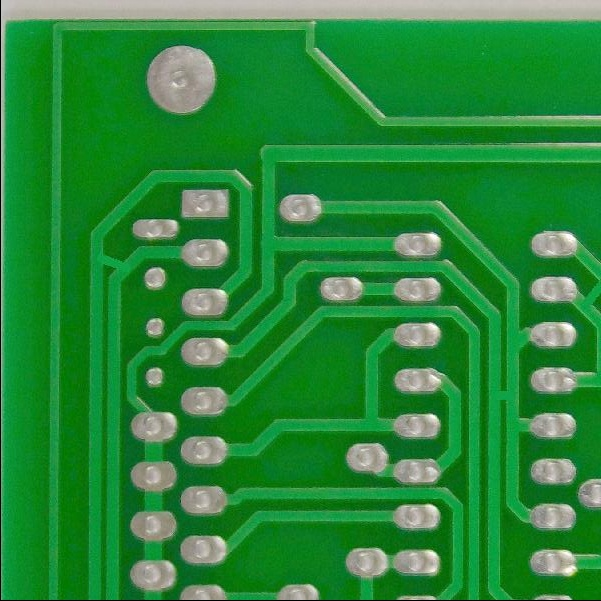short: (86, 241, 138, 291), (571, 264, 599, 313), (482, 378, 521, 411)
